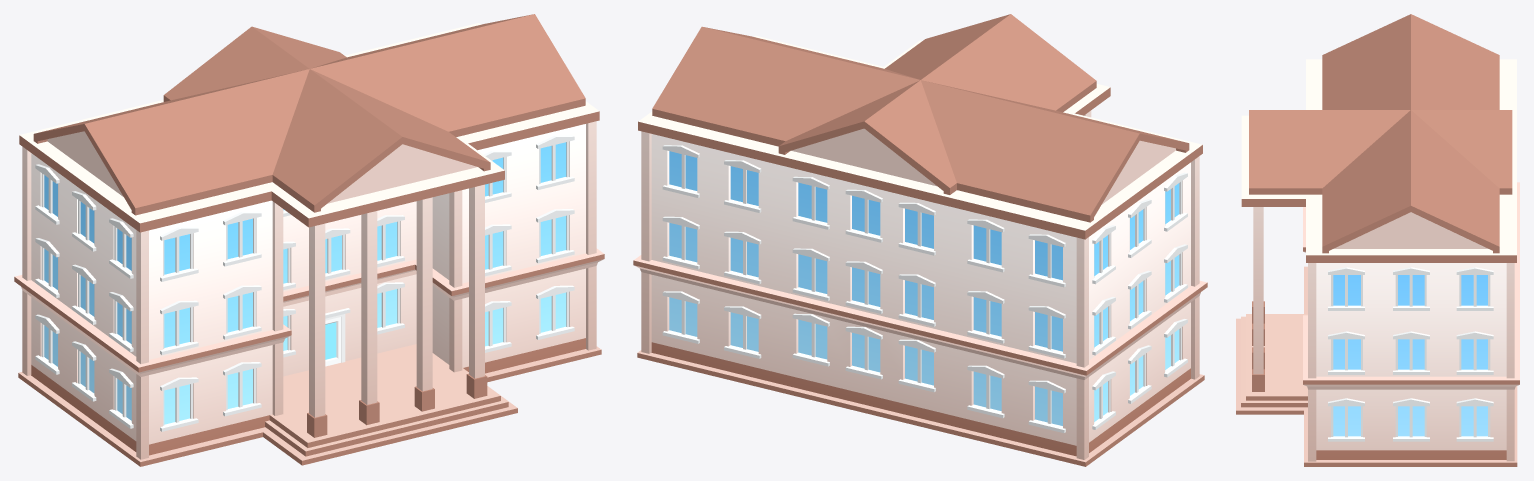
The model's file is Building_State_01.glb.
3 renders of one model, left to right at view 1: azimuth 30°, elevation 25°; view 2: azimuth 150°, elevation 25°; view 3: azimuth 270°, elevation 25°, orthographic. The views are drawn at different scales.
Visible parts, largest first — view 1: Building_State_01; view 2: Building_State_01; view 3: Building_State_01.
Boxes of the visible parts, box(x1,y1,x2,y2) form: Building_State_01: box(14, 14, 604, 466); Building_State_01: box(633, 14, 1207, 466); Building_State_01: box(1236, 14, 1519, 466).
Bounding box in the file's own units: 22.71 × 13.83 × 13.74.
Materials: 1 (1 with a texture image).
